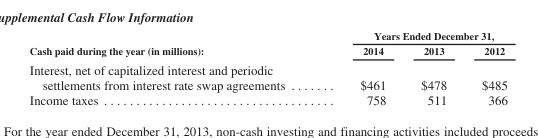table: (28, 29, 506, 106)
table column: (28, 29, 322, 106), (322, 29, 402, 106), (402, 29, 463, 106), (463, 29, 506, 106)
table column header: (28, 29, 506, 59)
table row: (28, 59, 506, 92), (28, 43, 506, 59), (28, 29, 506, 43), (28, 92, 506, 106)
table spanning cell: (28, 29, 322, 59), (322, 29, 506, 43)
